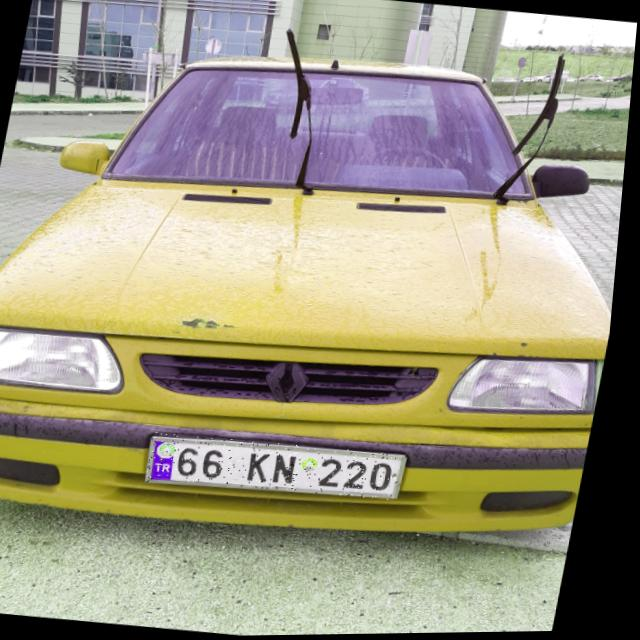license_plate: (153, 429, 413, 504)
